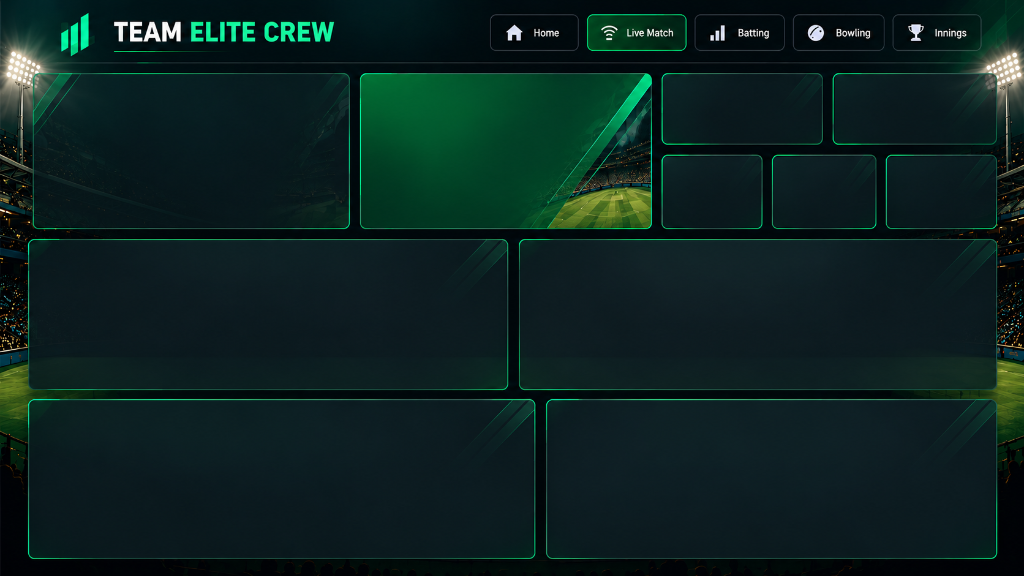

Layout of this report page (visuals, bound fields, positions):
{"tool":"powerbi","page":{"name":"Page 3","canvas":[1920,1080],"ordinal":2},"visuals":[{"type":"kpi","fields":{"Goal":["Sum(public v_live_match_summary.current_wickets)","Sum(public v_live_match_summary.current_overs)"],"Indicator":["Sum(public v_live_match_summary.current_runs)"]},"box":[63.8,140,587.5,280],"z":0},{"type":"tableEx","fields":{"Values":["public v_current_batting_scorecard.player_name","Sum(public v_current_batting_scorecard.runs)","Sum(public v_current_batting_scorecard.balls_faced)","Sum(public v_current_batting_scorecard.fours)","Sum(public v_current_batting_scorecard.sixes)","Sum(public v_current_batting_scorecard.strike_rate)","public v_current_batting_scorecard.dismissal_info"]},"box":[50,443.3,910,292.2],"z":2000},{"type":"tableEx","fields":{"Values":["public v_current_bowling_scorecard.player_name","Sum(public v_current_bowling_scorecard.overs_bowled)","Sum(public v_current_bowling_scorecard.maidens)","Sum(public v_current_bowling_scorecard.runs_conceded)","Sum(public v_current_bowling_scorecard.wickets)"]},"box":[960,443.8,910,292.2],"z":3000},{"type":"lineChart","fields":{"Category":["public v_worm_comparison.overs"],"Y":["Sum(public v_worm_comparison.runs)"]},"box":[50,745,947.5,292.5],"z":4000},{"type":"clusteredColumnChart","fields":{"Category":["public v_match_innings_summary.innings_name"],"Y":["Sum(public v_match_innings_summary.extras_leg_byes)","Sum(public v_match_innings_summary.extras_byes)","Sum(public v_match_innings_summary.extras_no_balls)","Sum(public v_match_innings_summary.extras_total)","Sum(public v_match_innings_summary.extras_wides)"]},"box":[1030,745.7,840,292.9],"z":5000},{"type":"kpi","fields":{"Indicator":["Sum(public v_live_match_summary.current_runs)"]},"box":[1244,140,295,123],"z":5001},{"type":"tableEx","fields":{"Values":["public v_live_match_summary.data_provenance_badge"]},"box":[685,141.2,528.8,278.8],"z":5002},{"type":"kpi","fields":{"Indicator":["Sum(public v_live_match_summary.current_run_rate)"]},"box":[1563.8,141.2,306.2,121.2],"z":5003},{"type":"kpi","fields":{"Indicator":["Sum(public v_live_match_summary.target_runs)"]},"box":[1243.8,288.8,183.8,131.2],"z":5004},{"type":"kpi","fields":{"Indicator":["Sum(public v_live_match_summary.required_run_rate)"]},"box":[1450,290,192.5,131.2],"z":5005},{"type":"kpi","fields":{"TrendLine":["public v_live_match_summary.current_status_summary"]},"box":[1665,291.2,205,138.8],"z":5006}]}

Visuals, with their boxes in screenshot pixels (x1, y1, x2, y2):
kpi - Sum(public v_live_match_summary.current_wickets) x Sum(public v_live_match_summary.current_overs): locate(21, 68, 342, 221)
tableEx - public v_current_batting_scorecard.player_name x Sum(public v_current_batting_scorecard.runs): locate(14, 234, 510, 393)
tableEx - public v_current_bowling_scorecard.player_name x Sum(public v_current_bowling_scorecard.overs_bowled): locate(510, 234, 1006, 393)
lineChart - public v_worm_comparison.overs x Sum(public v_worm_comparison.runs): locate(14, 398, 531, 558)
clusteredColumnChart - public v_match_innings_summary.innings_name x Sum(public v_match_innings_summary.extras_leg_byes): locate(548, 399, 1006, 558)
kpi - Sum(public v_live_match_summary.current_runs): locate(665, 68, 826, 135)
tableEx - public v_live_match_summary.data_provenance_badge: locate(360, 69, 649, 221)
kpi - Sum(public v_live_match_summary.current_run_rate): locate(839, 69, 1006, 135)
kpi - Sum(public v_live_match_summary.target_runs): locate(665, 149, 765, 221)
kpi - Sum(public v_live_match_summary.required_run_rate): locate(777, 150, 882, 222)
kpi - public v_live_match_summary.current_status_summary: locate(895, 151, 1006, 226)
